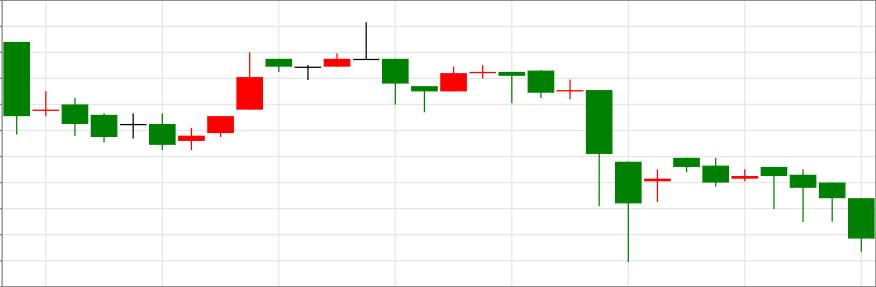hammer_rise: (353, 21, 643, 262)
